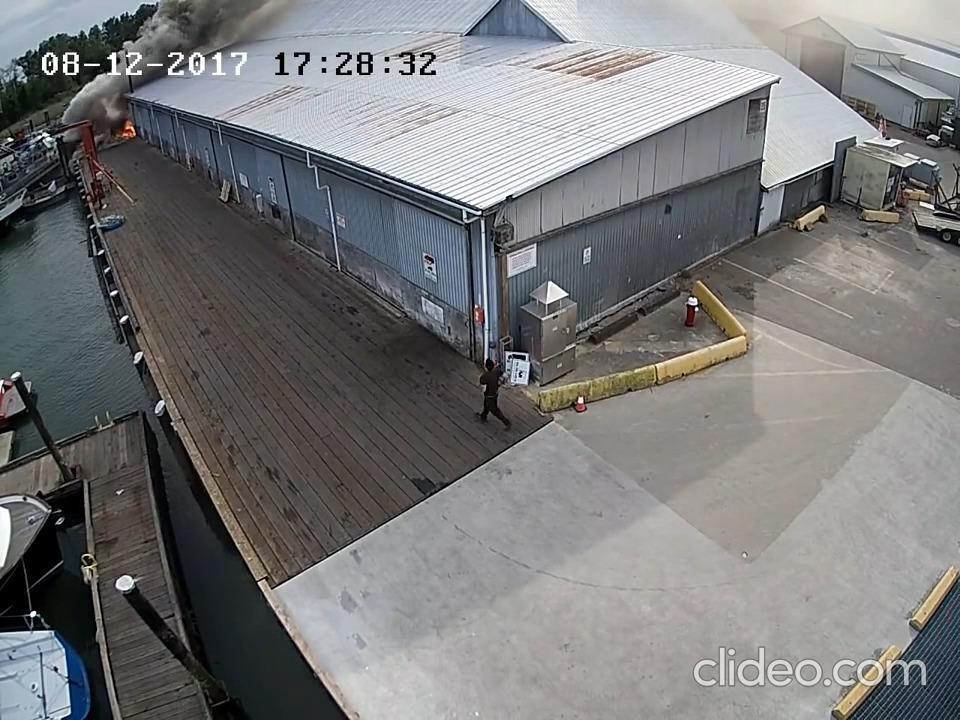fire: (117, 117, 138, 140)
